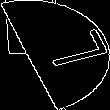L_W: (13, 32, 97, 78)
